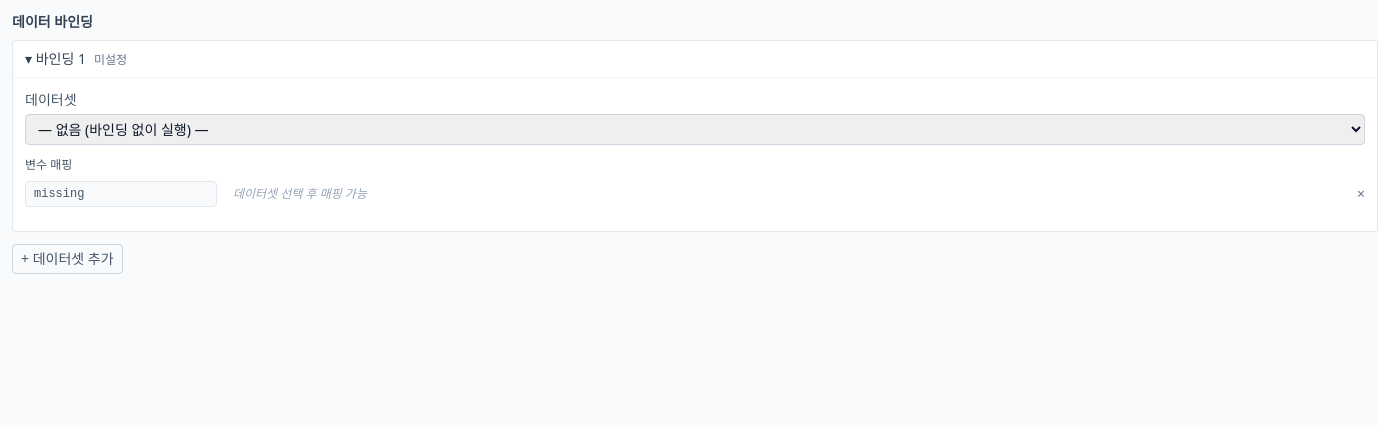
Test case: DataBindingPanel › uncovered var blocks only when a dataset IS selected
// Select a dataset — now "missing" is uncovered (not in columns, not in extract)
Select "users.csv (100행)" in the dropdown labelled "데이터셋": (695, 130) [25, 114, 1365, 145]
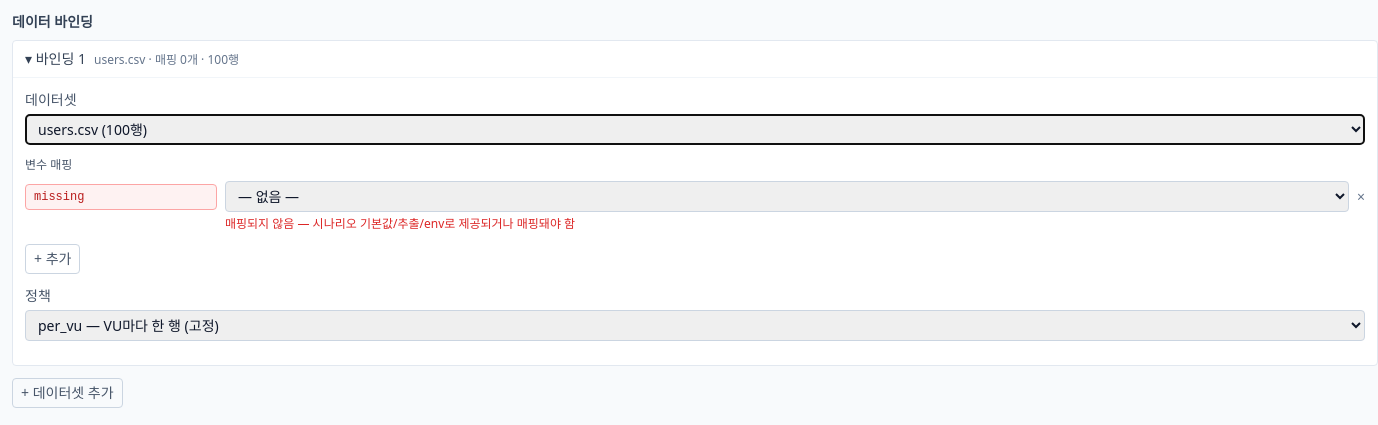
Now the text "매핑되지 않음 — 시나리오 기본값/추출/env로 제공되거나 매핑돼야 함" is shown, box [225, 215, 575, 232]
